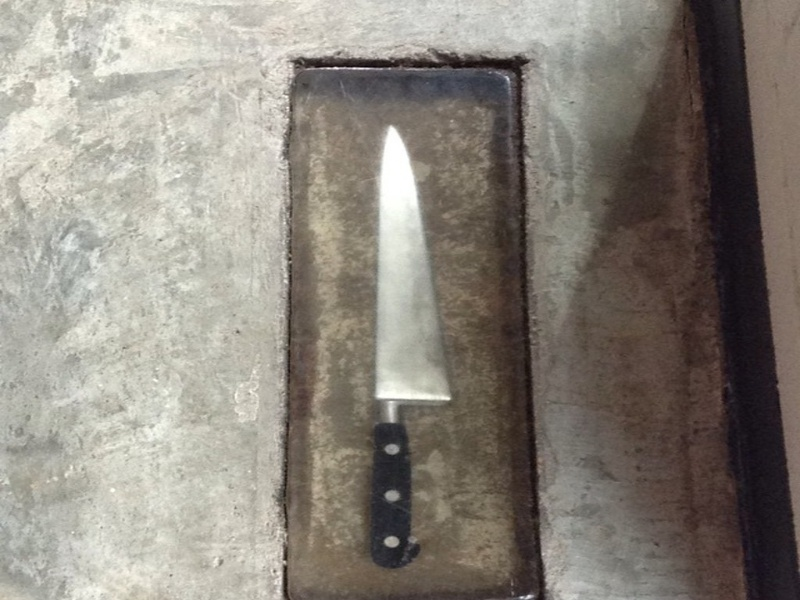knife: (369, 118, 454, 571)
